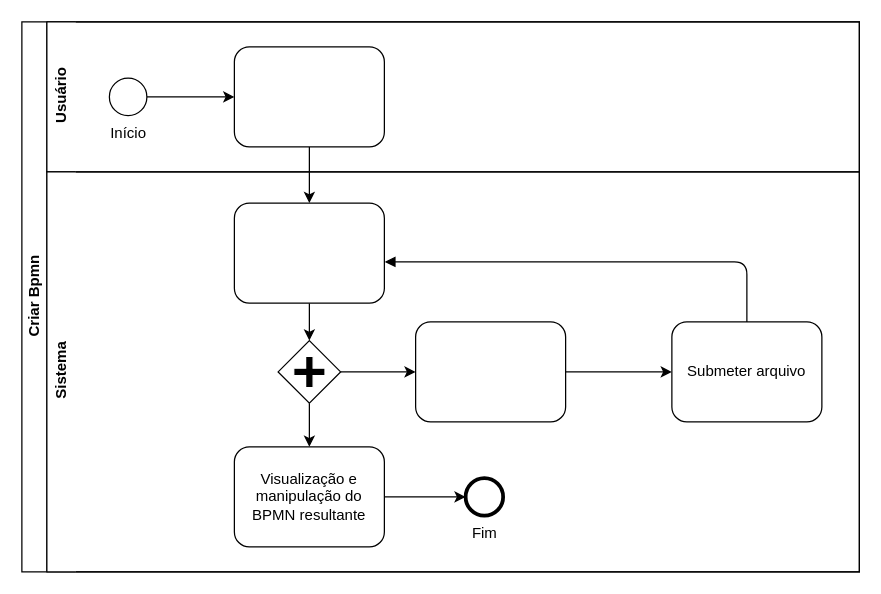
This 881x594 diagram has some shape labels left out. Each missing label, with the centre of its shape:
"Acessa o sistema no browser" goes at (x=308, y=96).
"Acessar página de submissão de arquivos" goes at (x=490, y=371).
"Listar projetos já enviados" goes at (x=308, y=252).
